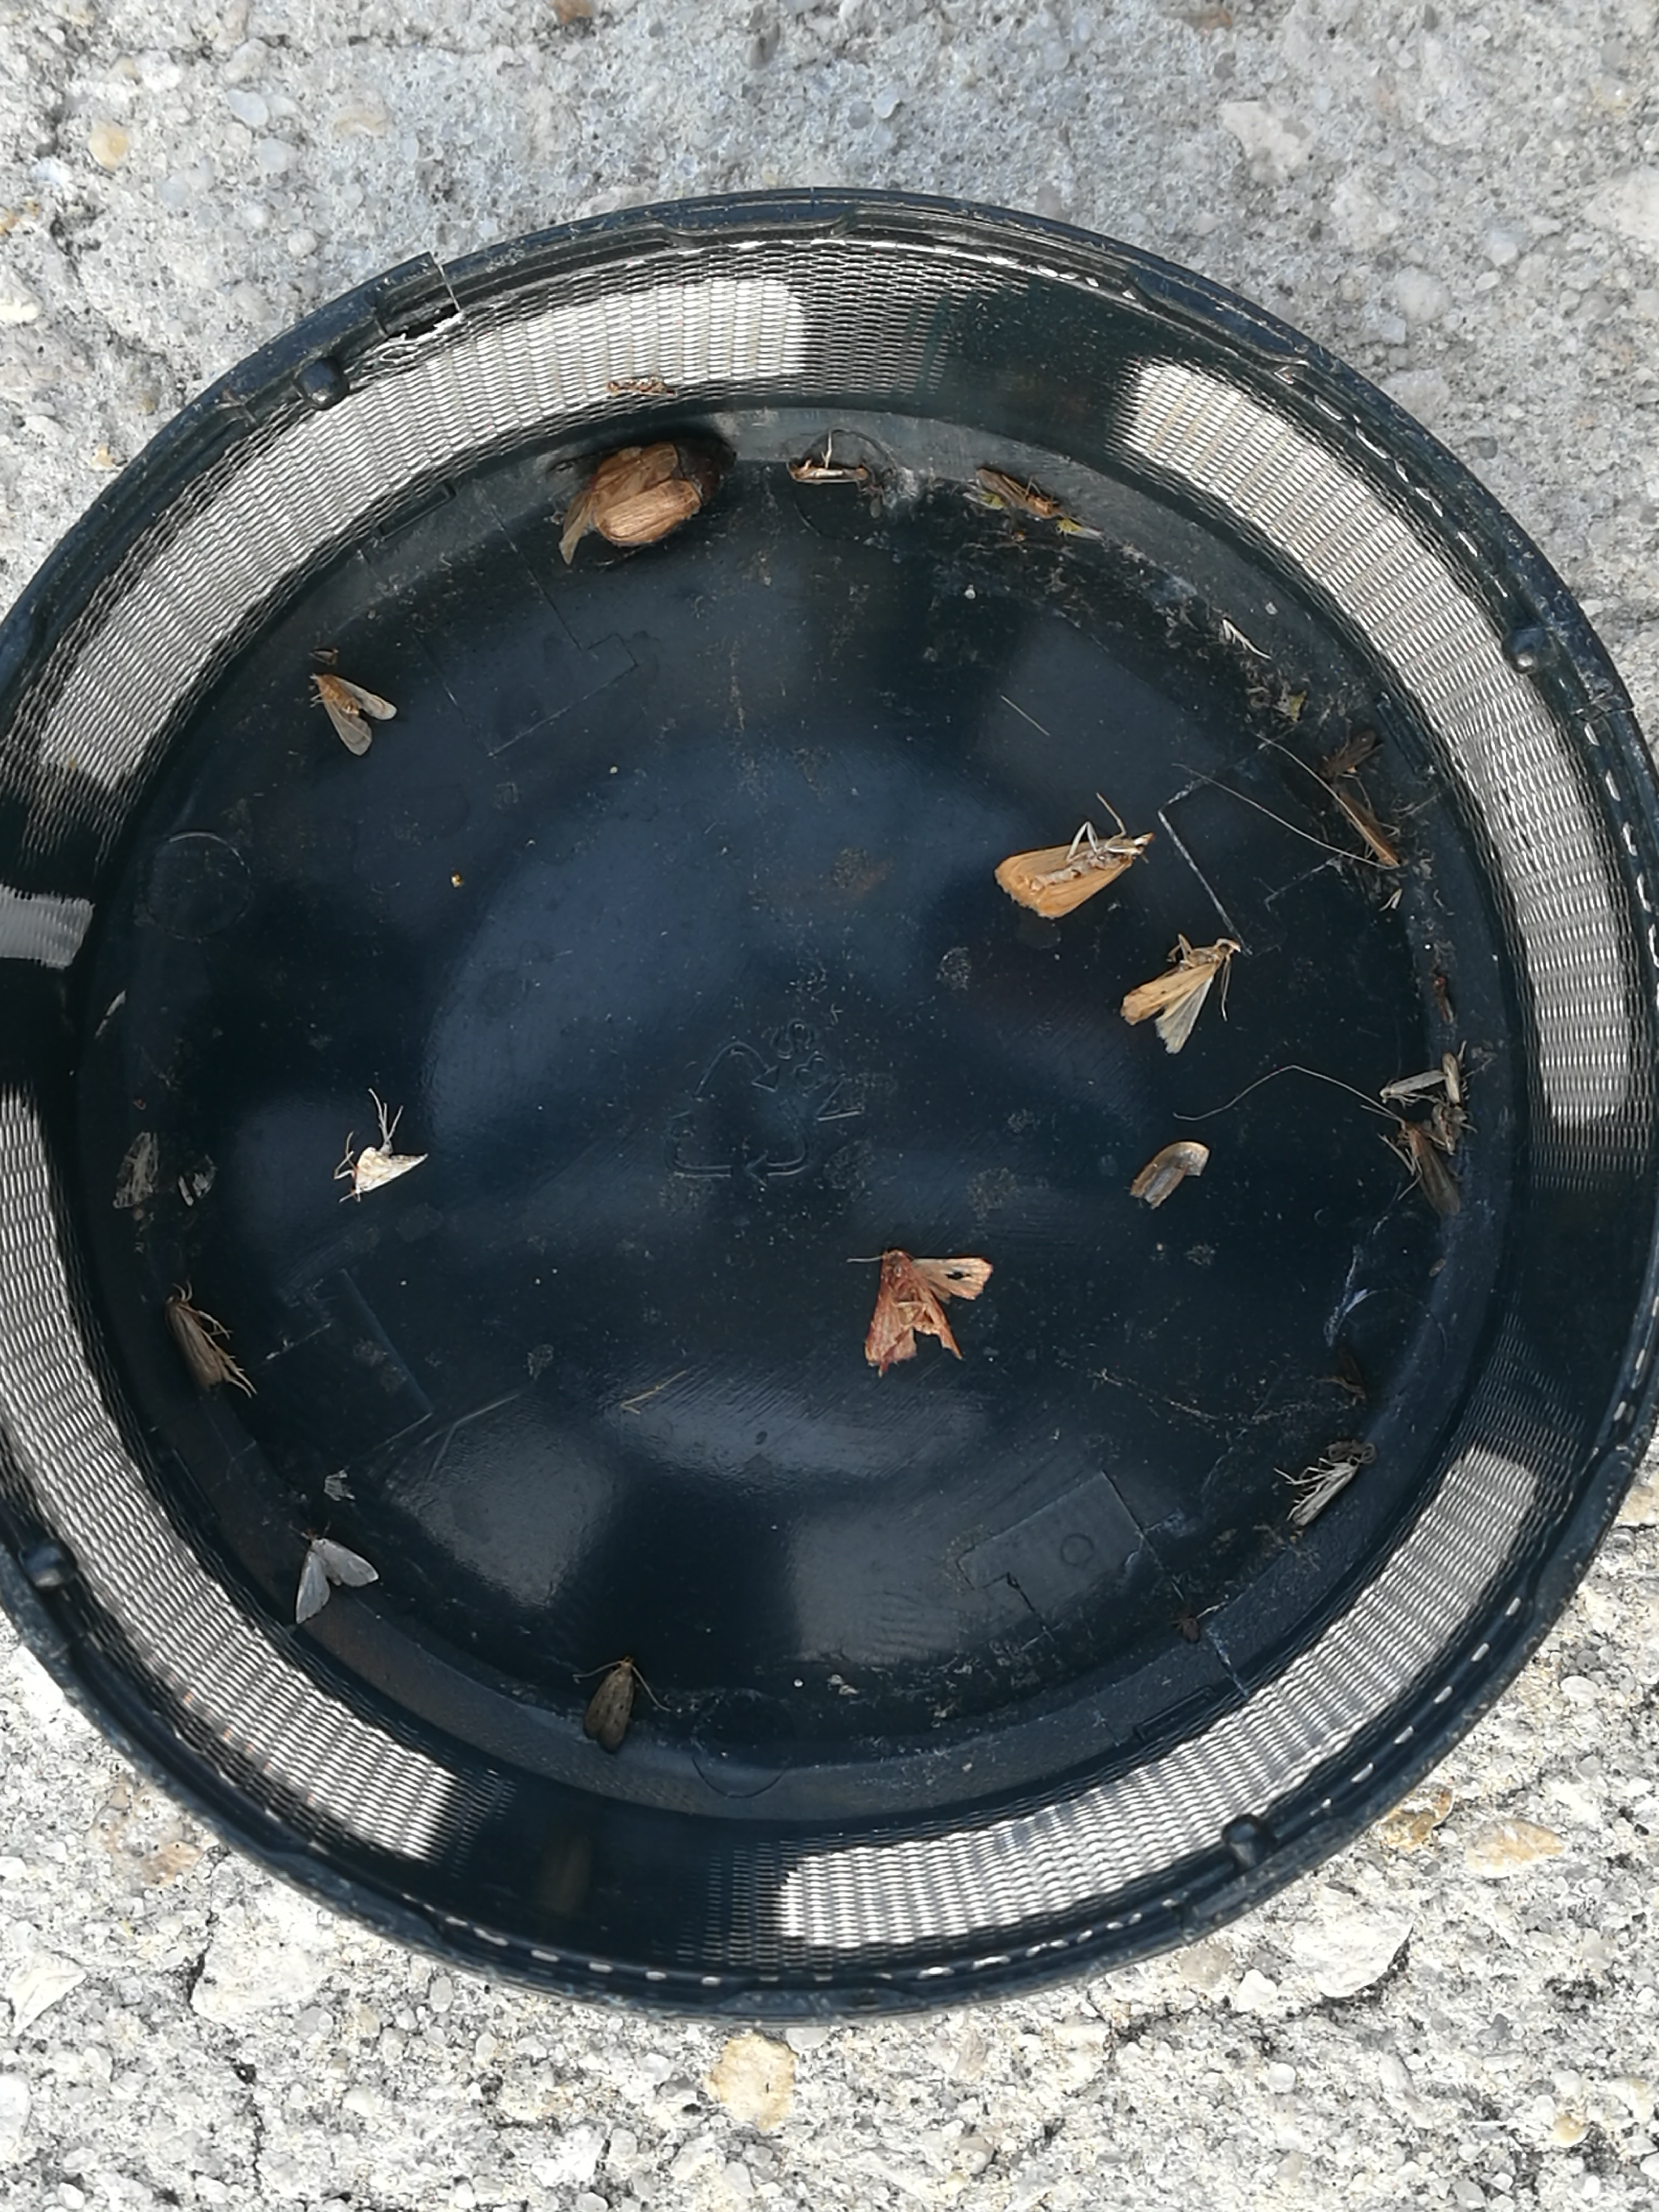beetle: (587, 435, 728, 547)
mosquito: (1398, 1127, 1460, 1223), (166, 1291, 223, 1393), (1335, 787, 1399, 871), (1286, 1460, 1359, 1527), (974, 465, 1054, 521), (1321, 725, 1378, 775), (788, 458, 871, 484), (1384, 1071, 1441, 1099), (1443, 1057, 1462, 1101)
moth: (864, 1249, 993, 1372), (1121, 939, 1239, 1050), (995, 834, 1154, 916), (296, 1538, 378, 1625), (314, 676, 397, 751), (586, 1658, 633, 1754), (352, 1148, 425, 1193)
